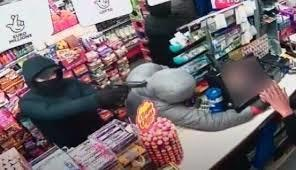weapon: (105, 76, 145, 102)
